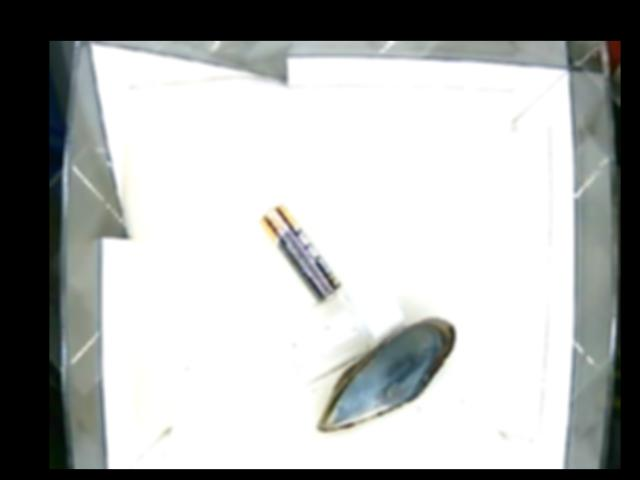Battery: (258, 203, 334, 299)
Bottle: (265, 279, 402, 384)
Shell: (314, 310, 456, 432)
